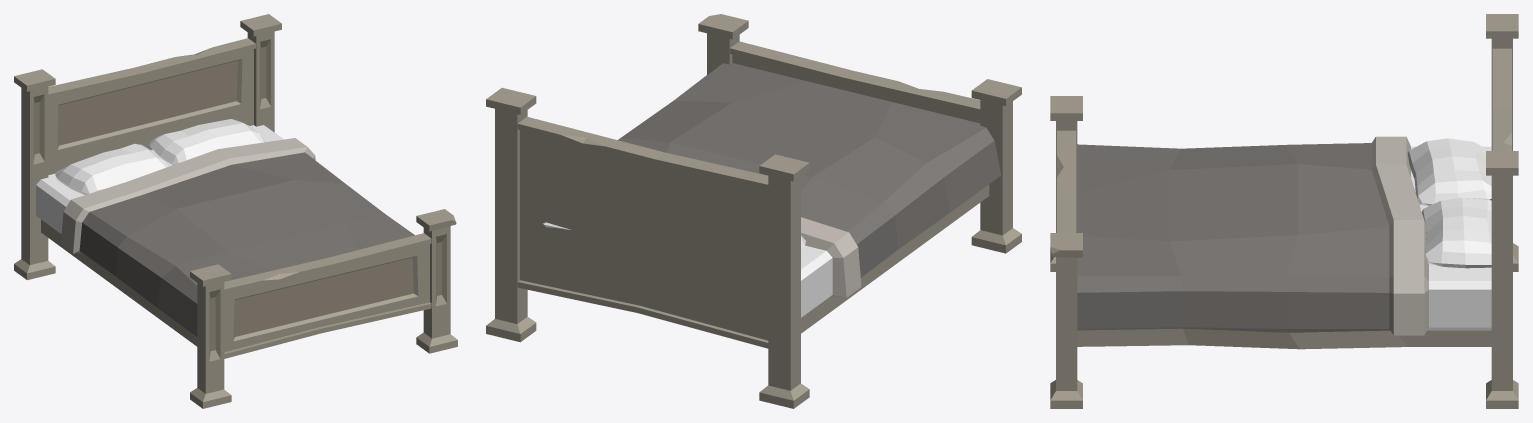
The model's file is SM_Prop_Bed_Double_03.fbx.
3 renders of one model, left to right at view 1: azimuth 30°, elevation 25°; view 2: azimuth 150°, elevation 25°; view 3: azimuth 270°, elevation 25°, orthographic. The views are drawn at different scales.
Visible parts, largest first — view 1: SM_Prop_Bed_Double_03; view 2: SM_Prop_Bed_Double_03; view 3: SM_Prop_Bed_Double_03.
Part boxes in pixels (<box>): SM_Prop_Bed_Double_03: <box>14,14,457,408</box>; SM_Prop_Bed_Double_03: <box>486,14,1021,408</box>; SM_Prop_Bed_Double_03: <box>1050,14,1518,408</box>.
Bounding box in the file's own units: 208 × 152 × 267.
